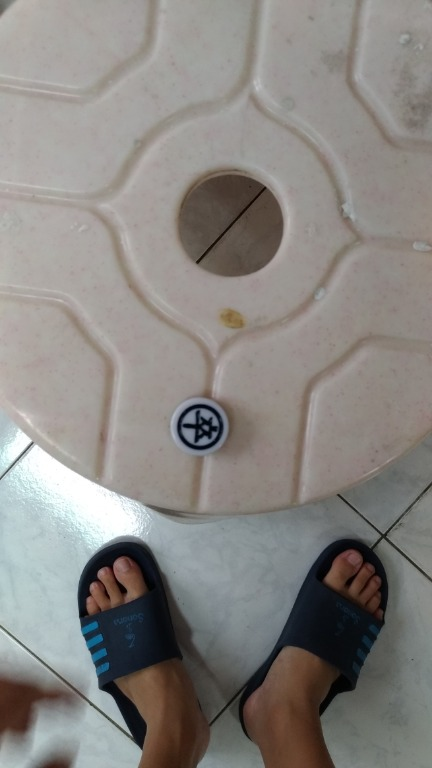b-pawn: (159, 387, 252, 473)
